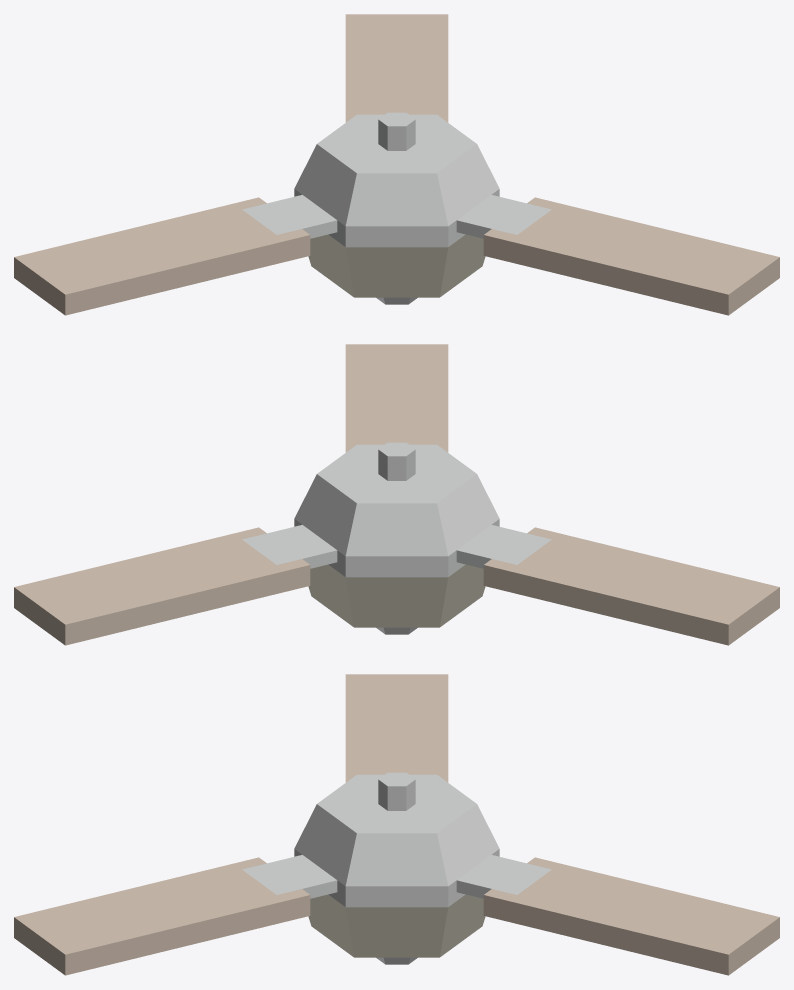
The model's file is furn_ceilingFan.glb.
3 renders of one model, top to bottom at view 1: azimuth 30°, elevation 25°; view 2: azimuth 150°, elevation 25°; view 3: azimuth 270°, elevation 25°, orthographic.
Bounding box in the file's own units: 0.9095 × 0.2674 × 1.05.
